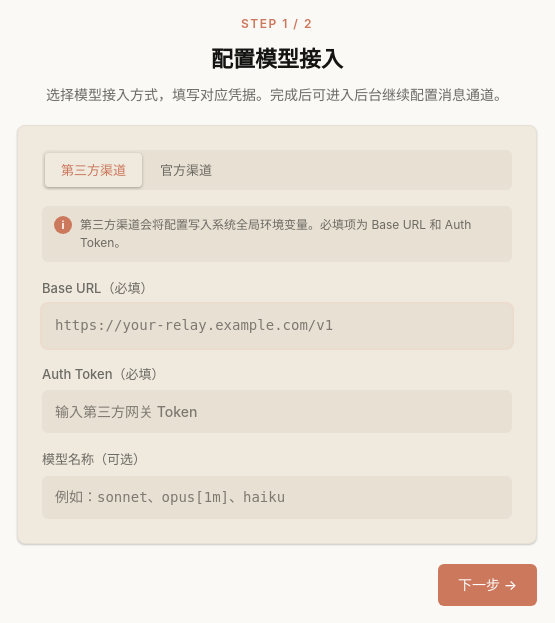
Test: Setup Page › Step 1: Model Configuration › allows navigation to step 2 with valid data
In the field with placeholder "https://your-relay.example.com/v1": (277, 326) [42,304,512,348], type "https://example.com/v1"
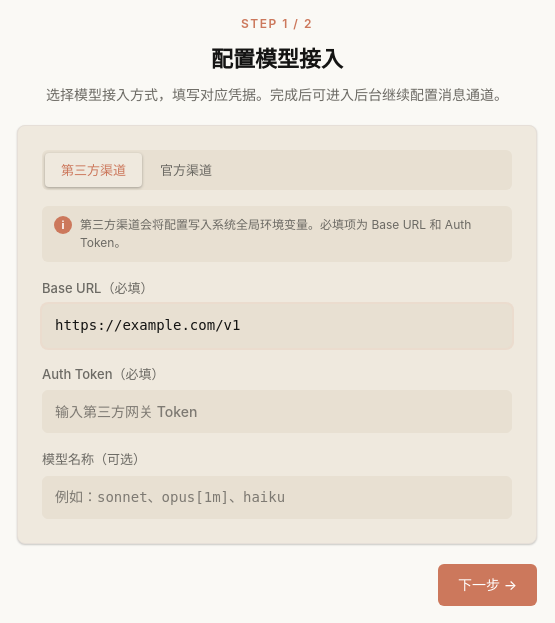
In the password field with placeholder "输入第三方网关 Token": (277, 412) [42,390,512,434], type "test-token"
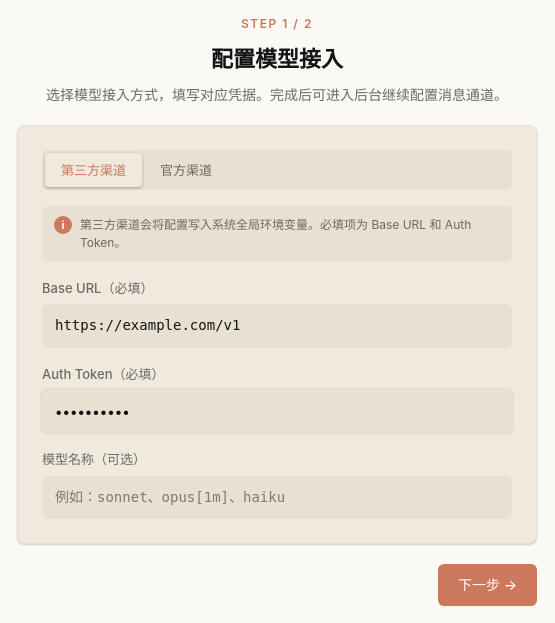
Click the button "下一步 →": (487, 585) [438,564,537,606]
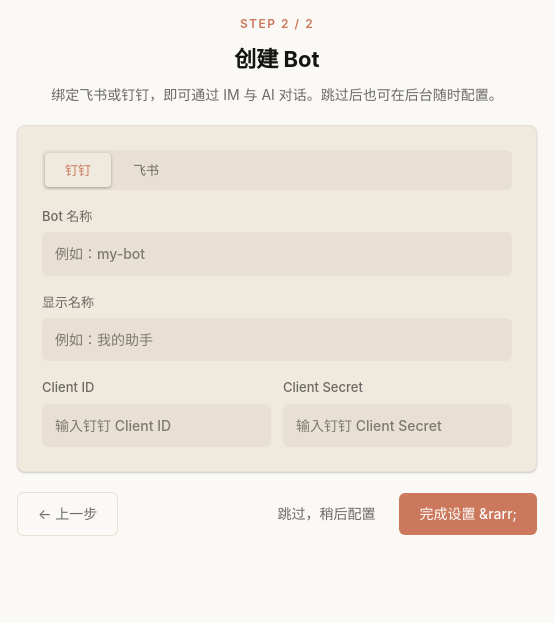
Now the text "STEP 2 / 2" is shown, box [240,16,314,31]
Now the heading "创建 Bot" is shown, box [234,46,320,72]
